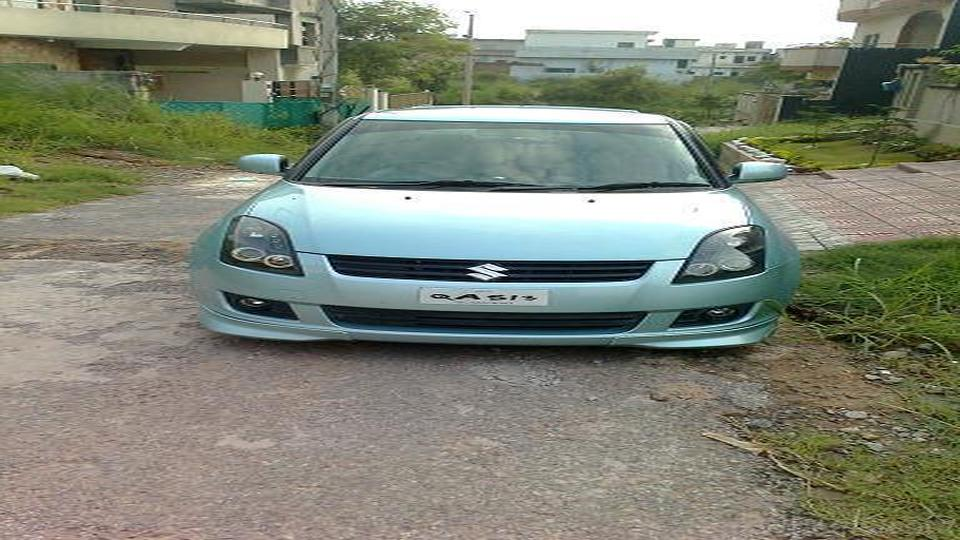NumberPlate: (401, 271, 555, 320)
